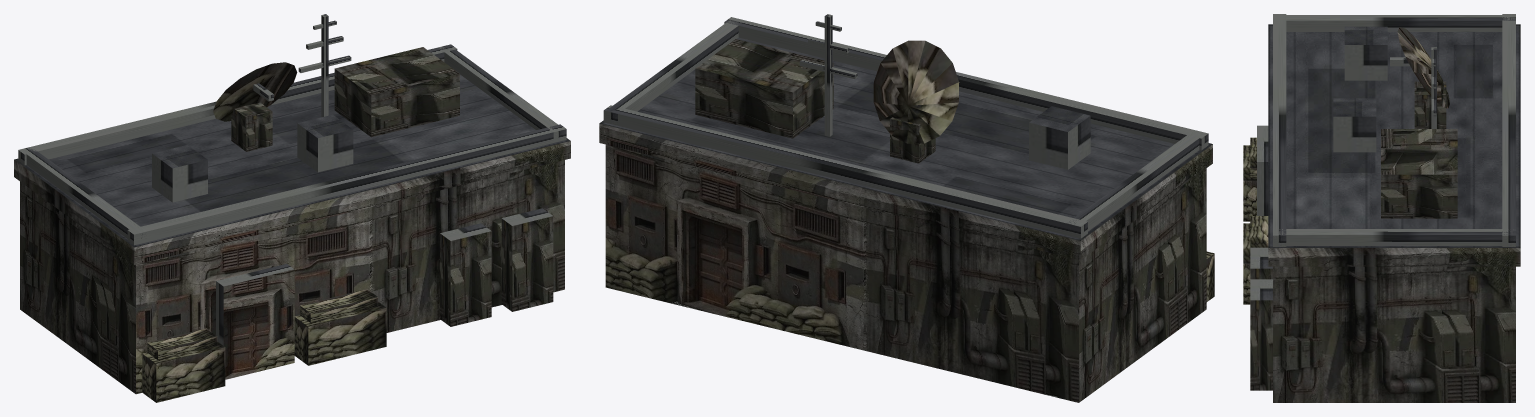
File: building_military_hq.glb
3 renders of one model, left to right at view 1: azimuth 30°, elevation 25°; view 2: azimuth 150°, elevation 25°; view 3: azimuth 270°, elevation 25°, orthographic. The views are drawn at different scales.
Visible parts, largest first — view 1: building_military_hq; view 2: building_military_hq; view 3: building_military_hq.
Boxes of the visible parts, x1,y1,x2,y2 form: building_military_hq: (14,14,570,402); building_military_hq: (599,14,1214,402); building_military_hq: (1243,14,1520,402).
Bounding box in the file's own units: 4.68 × 2.64 × 2.45.
Materials: 1 (1 with a texture image).
